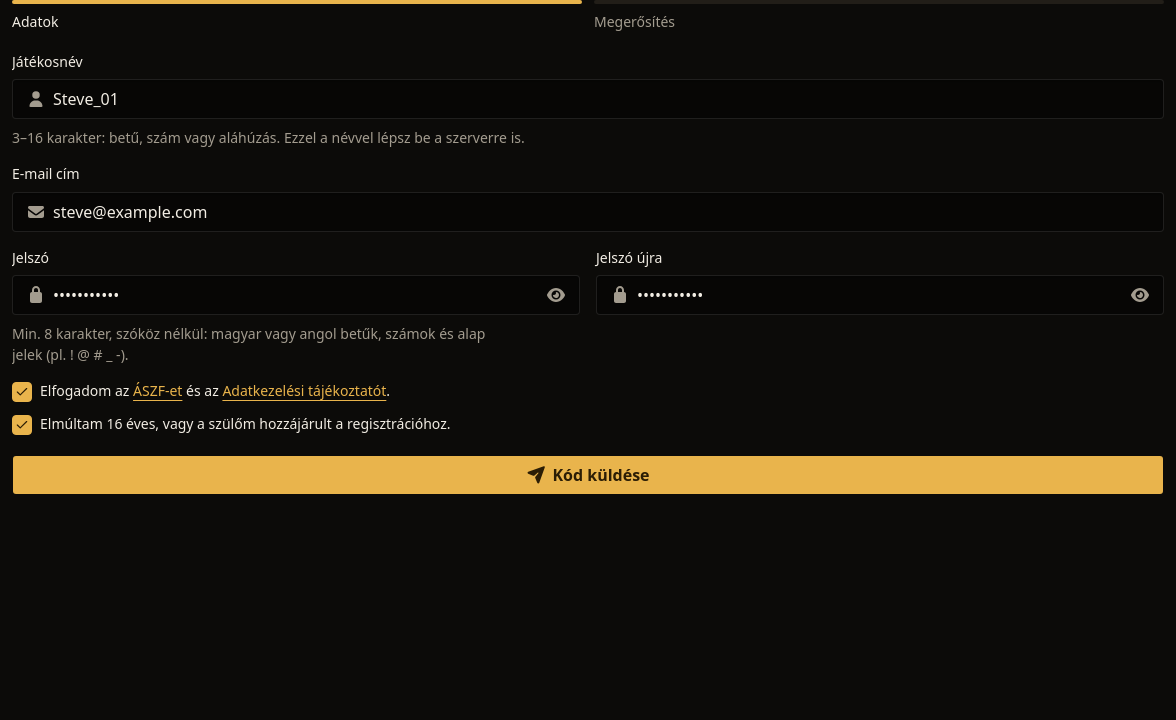
Test case: the hidden bot trap › a bot ticking it on the registration sends it
The width and height of the screenshot is (1176, 720).
Earlier steps of the test are not shown.
What coordinates should you click on to do the following:
click the button "Kód küldése"
I would click on:
 (588, 475)
Its box is x1=12 y1=455 x2=1164 y2=495.
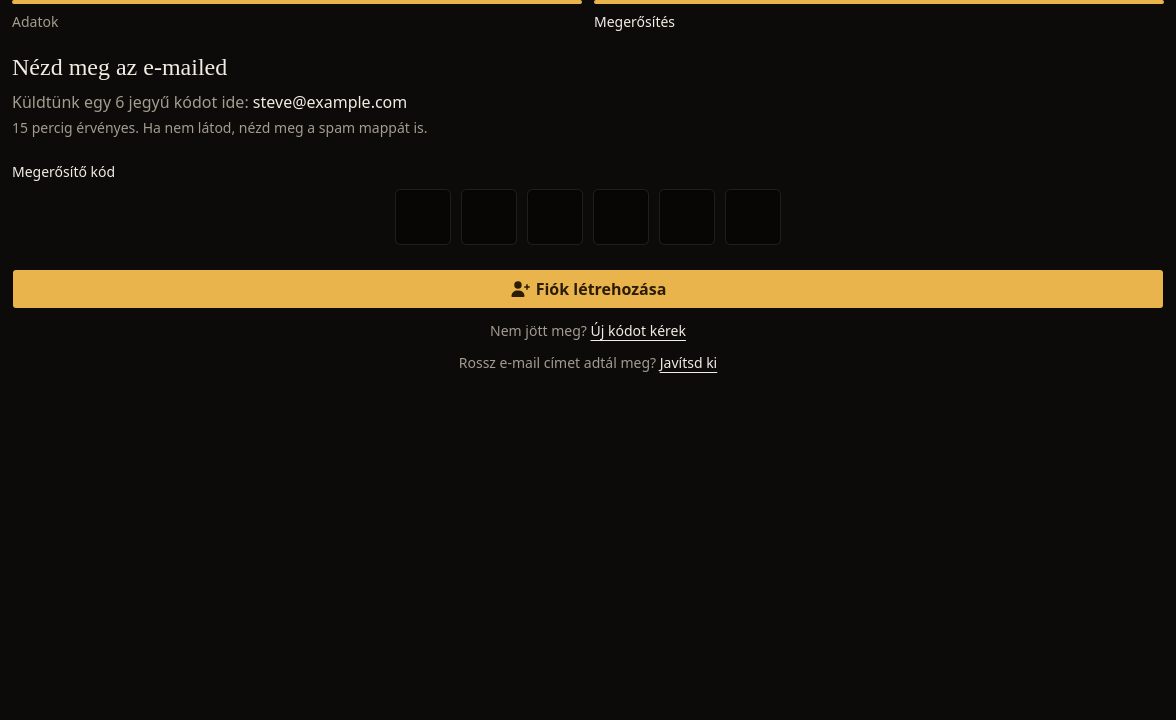
Expected: the heading "Nézd meg az e-mailed" is shown, x1=12 y1=54 x2=227 y2=80
